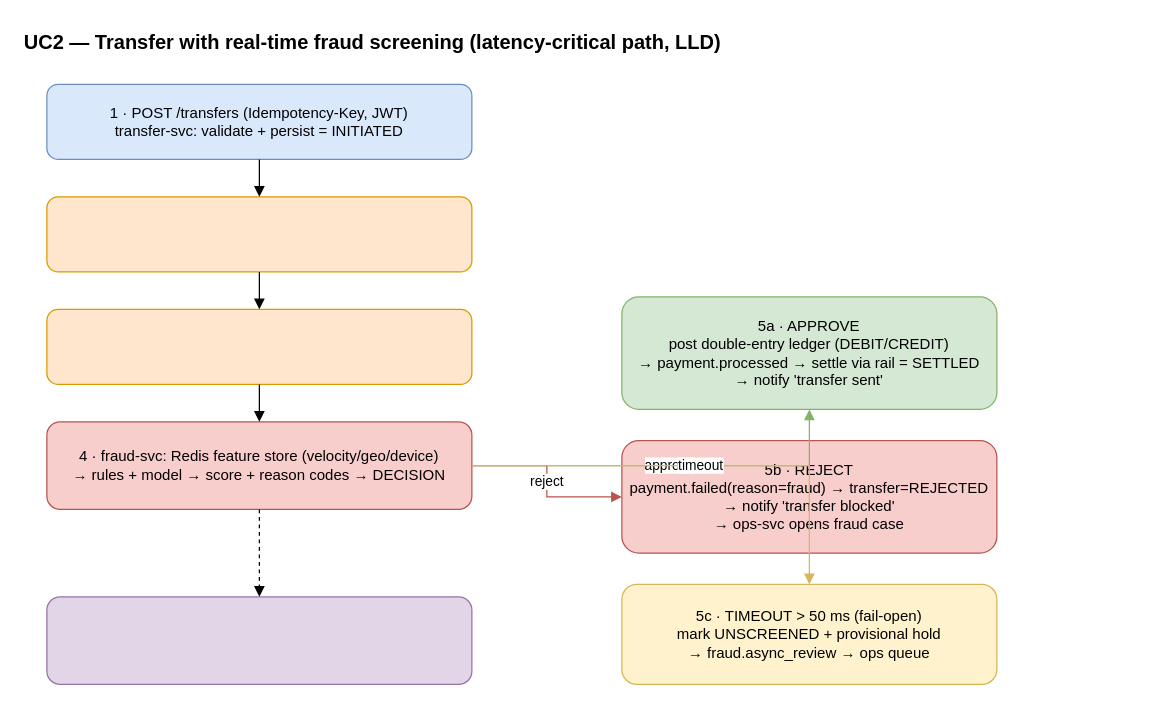
Some shapes in this 1168 by 706 pixel diagram are drawn without their labels. Each missing label, with the centre of its shape:
"2 · transfer-svc → payment-svc create payment = PENDING" belongs at pixel 259 234.
"3 · payment-svc → POST /fraud/screen (synchronous, 50 ms budget)" belongs at pixel 259 346.
"6 · fraud.completed emitted ALWAYS → audit-svc (trail) + model training set" belongs at pixel 259 640.
